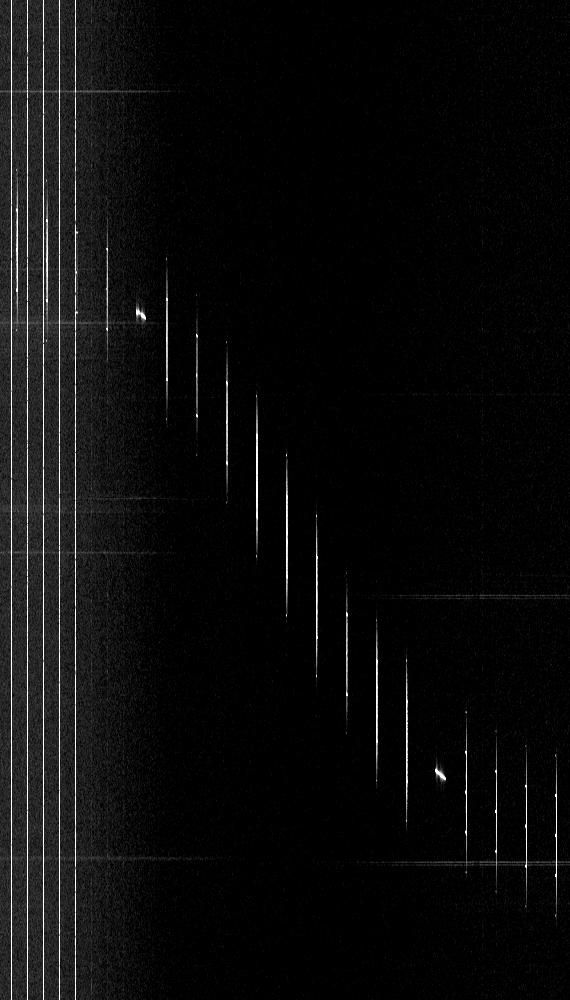signal: (0, 0, 569, 999)
